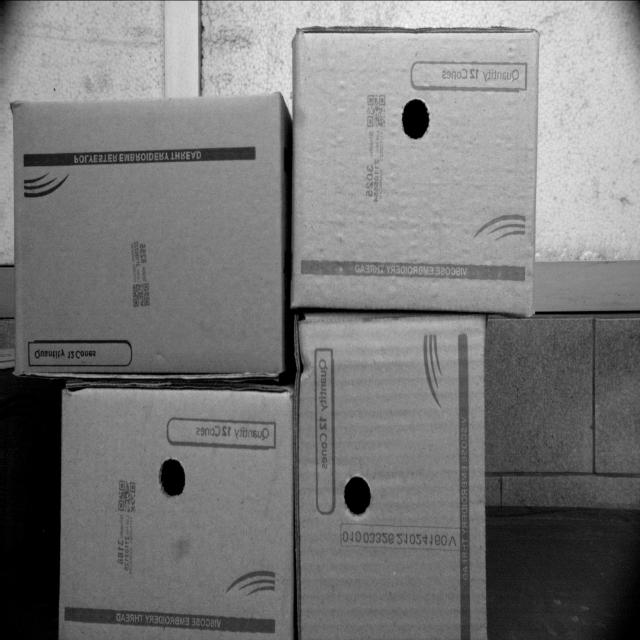cardboxes: (10, 93, 284, 380), (290, 20, 544, 313), (294, 319, 486, 639), (57, 383, 290, 639)
